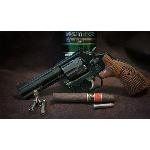Pistol: (13, 46, 150, 113)
